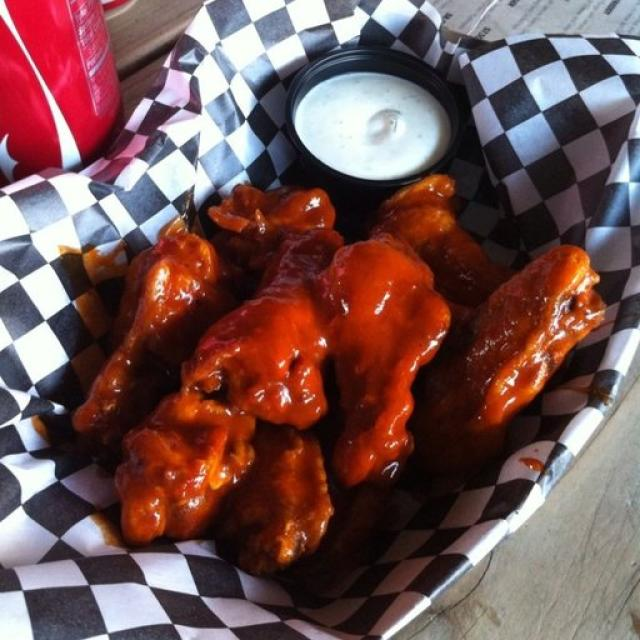Frango: (32, 212, 196, 440), (310, 229, 452, 464), (465, 249, 592, 447)
